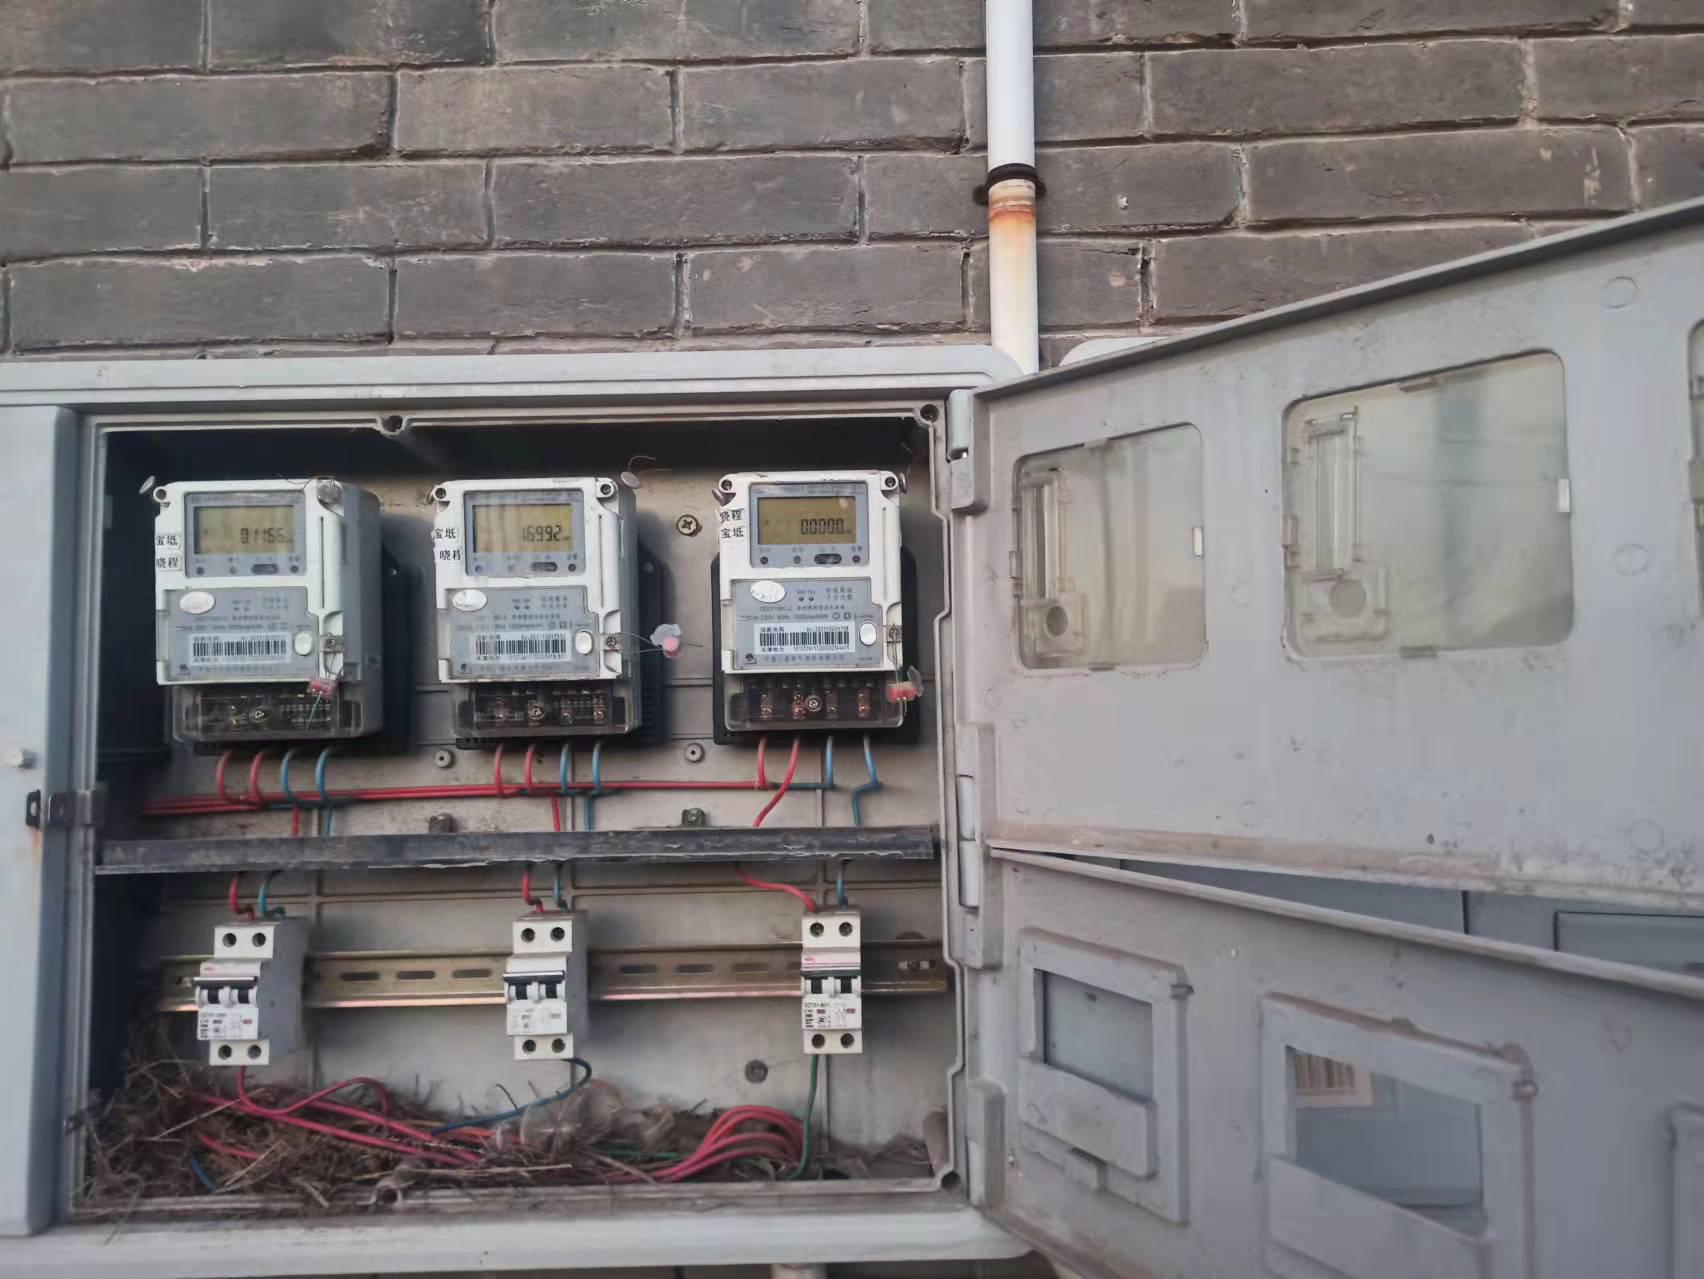digital: (153, 480, 346, 685), (428, 477, 619, 681), (718, 469, 897, 674)
